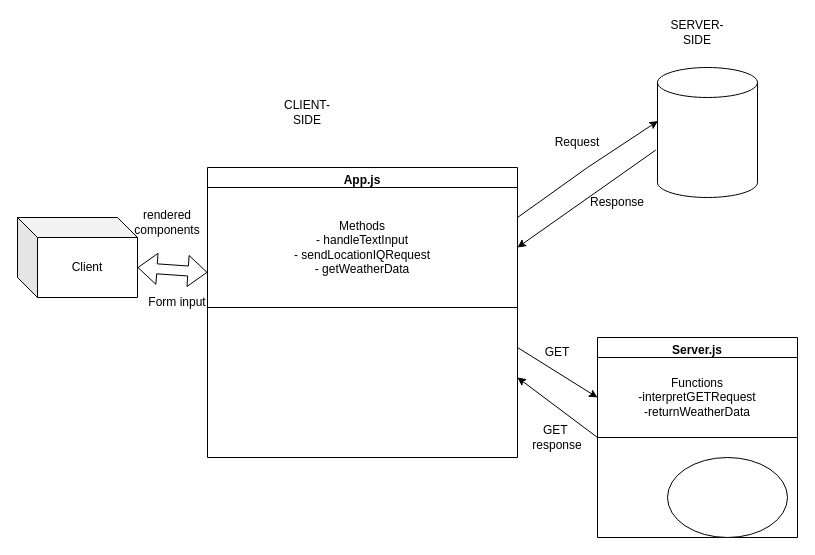
Some shapes in this 815 by 555 pixel diagram are drawn without their labels. Each missing label, with the centre of its shape:
"LocationIQ" goes at point 707,132.
"weather data.json" goes at point 727,497.
